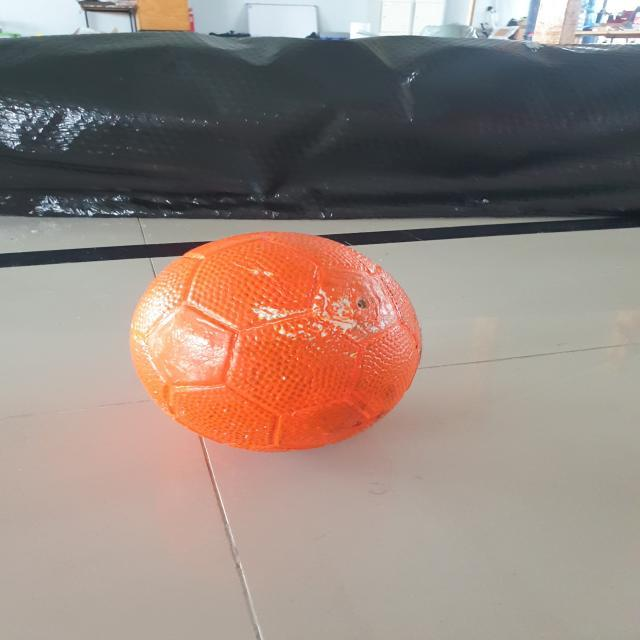bola: (126, 220, 430, 467)
